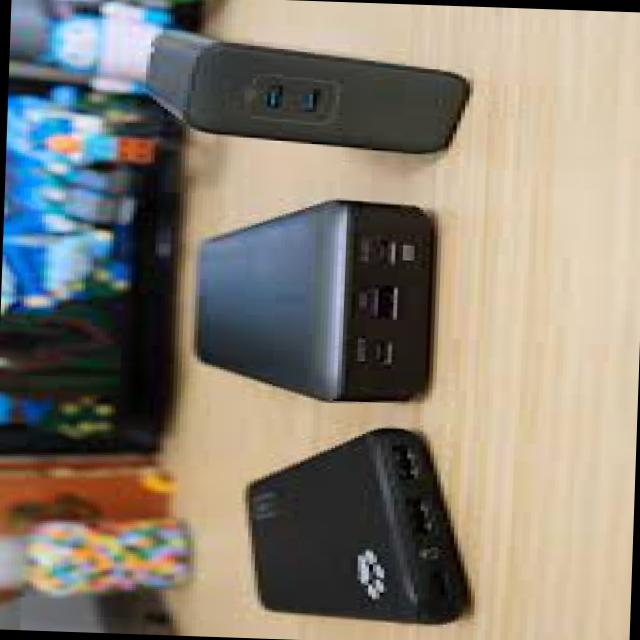portable-charger: (176, 186, 461, 412), (226, 415, 492, 629), (132, 25, 482, 157)
